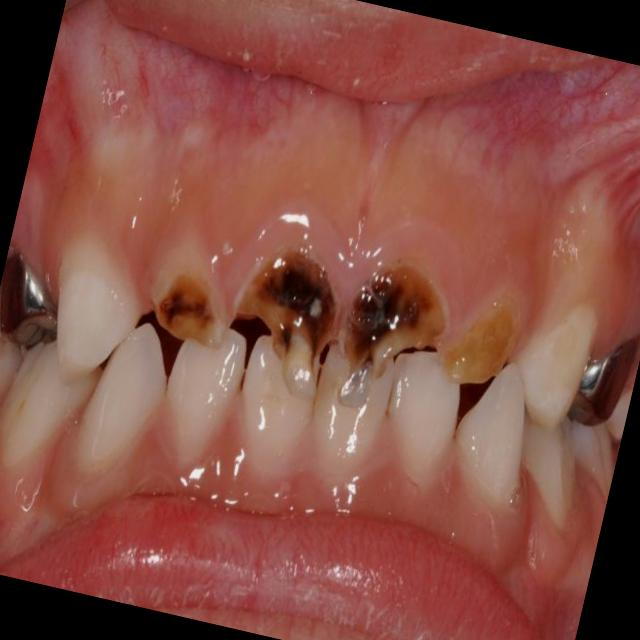caries: (218, 242, 350, 374), (334, 253, 456, 382), (432, 292, 524, 395), (146, 268, 224, 354)
